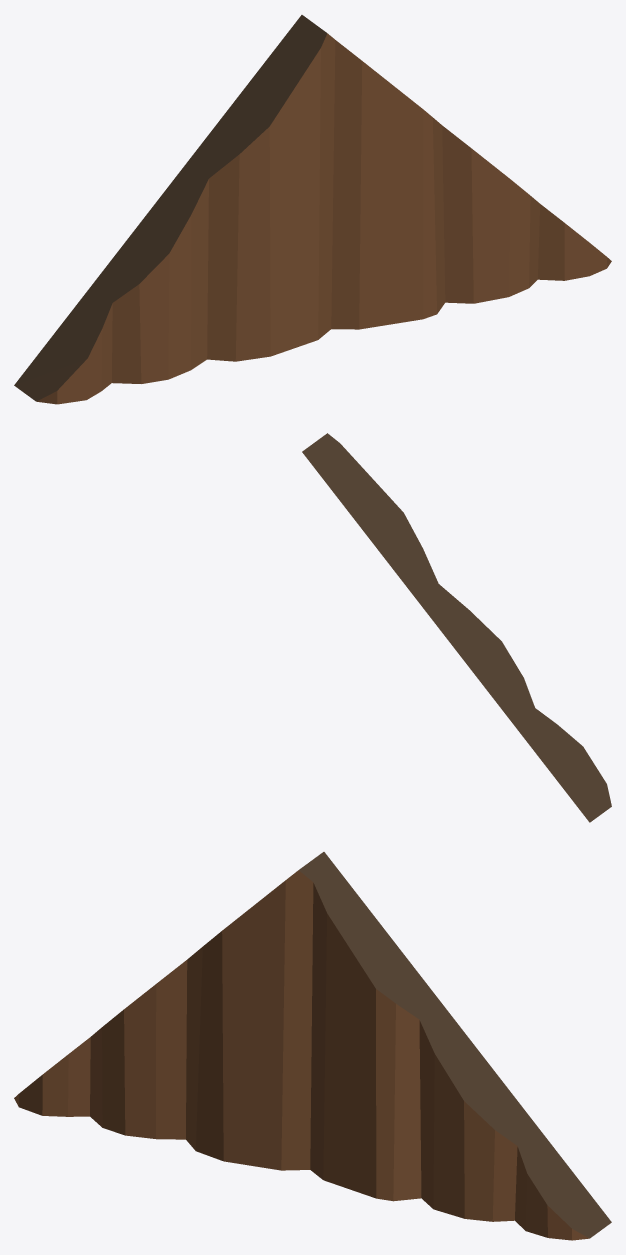
File: buildings-wall-wood-vertical-end-3m.glb
The picture shows the model from 3 angles, top to bottom: view 1: azimuth 30°, elevation 25°; view 2: azimuth 150°, elevation 25°; view 3: azimuth 330°, elevation 25°; orthographic projection.
Parts seen in each view (by area): view 1: wall-wood-vertical-end-3m; view 2: wall-wood-vertical-end-3m; view 3: wall-wood-vertical-end-3m.
Part boxes in pixels (x1,y1,x2,y2): wall-wood-vertical-end-3m: (14, 15, 611, 404); wall-wood-vertical-end-3m: (302, 433, 611, 822); wall-wood-vertical-end-3m: (14, 852, 611, 1240).
Size of the model in its own units: 3 by 1.5 by 0.315.
